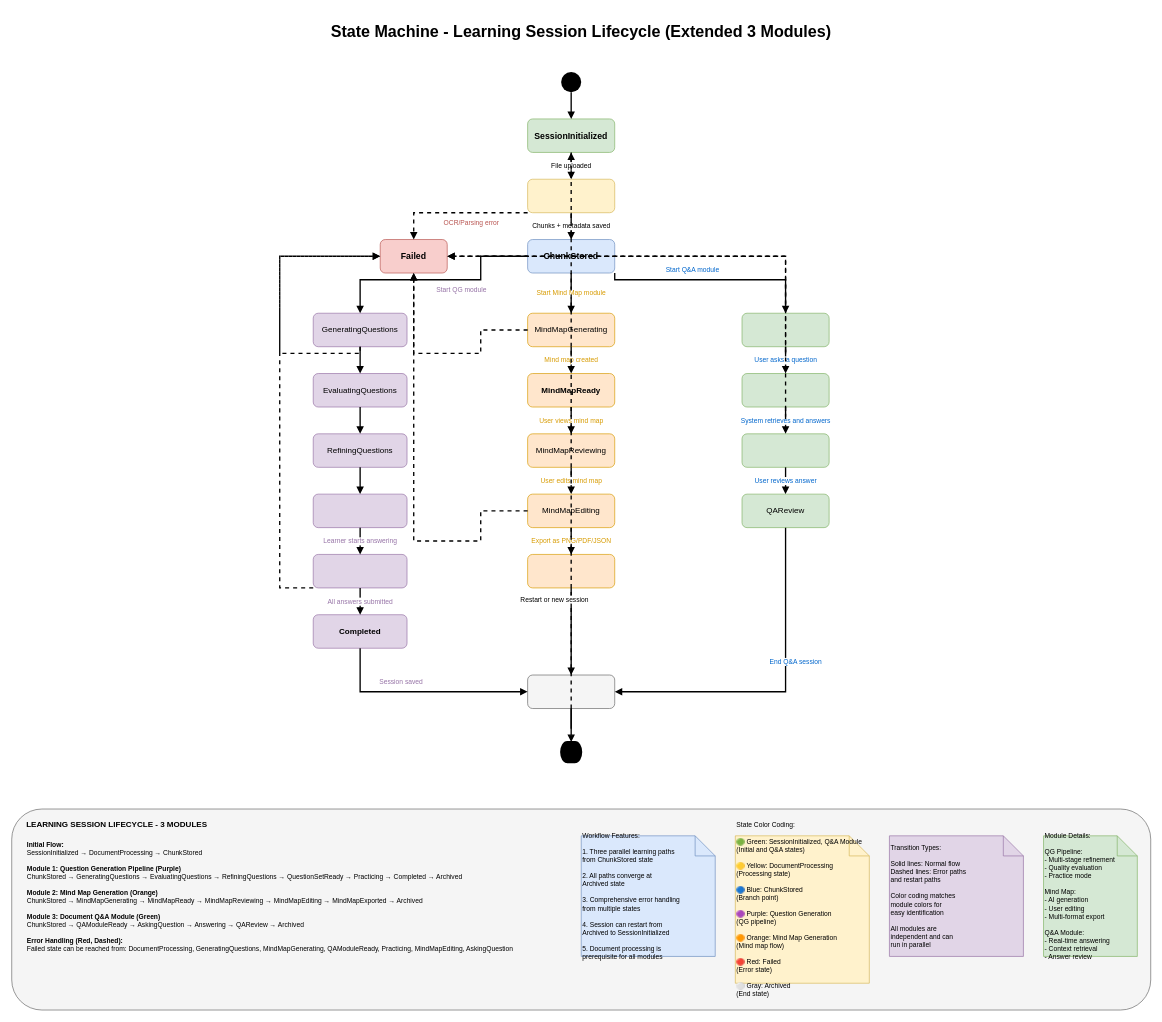
This 1162x1022 diagram has some shape labels left out. Here are the shapes that lost their labels. From the top down, the box of each, then its label:
(527, 179, 615, 213): DocumentProcessing
(741, 313, 829, 347): QAModuleReady
(741, 373, 829, 407): AskingQuestion
(741, 433, 829, 467): Answering
(313, 493, 407, 528): QuestionSetReady
(313, 554, 407, 588): Practicing
(527, 554, 615, 588): MindMapExported
(527, 674, 615, 709): Archived
